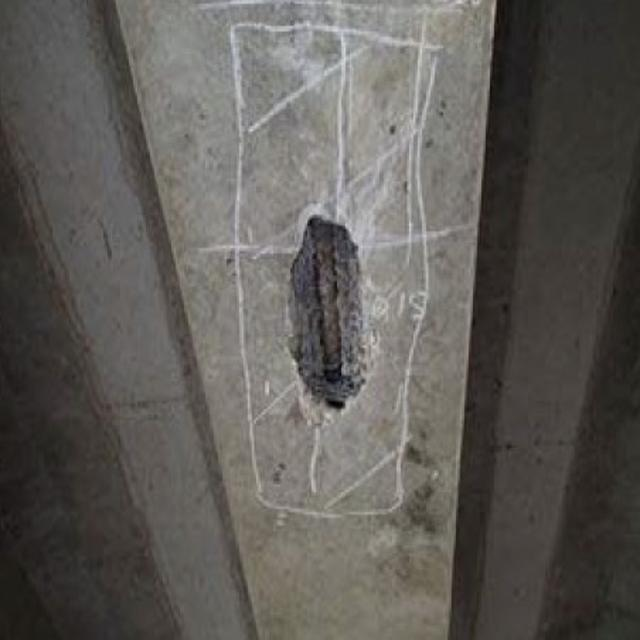spalling: (268, 193, 388, 434)
